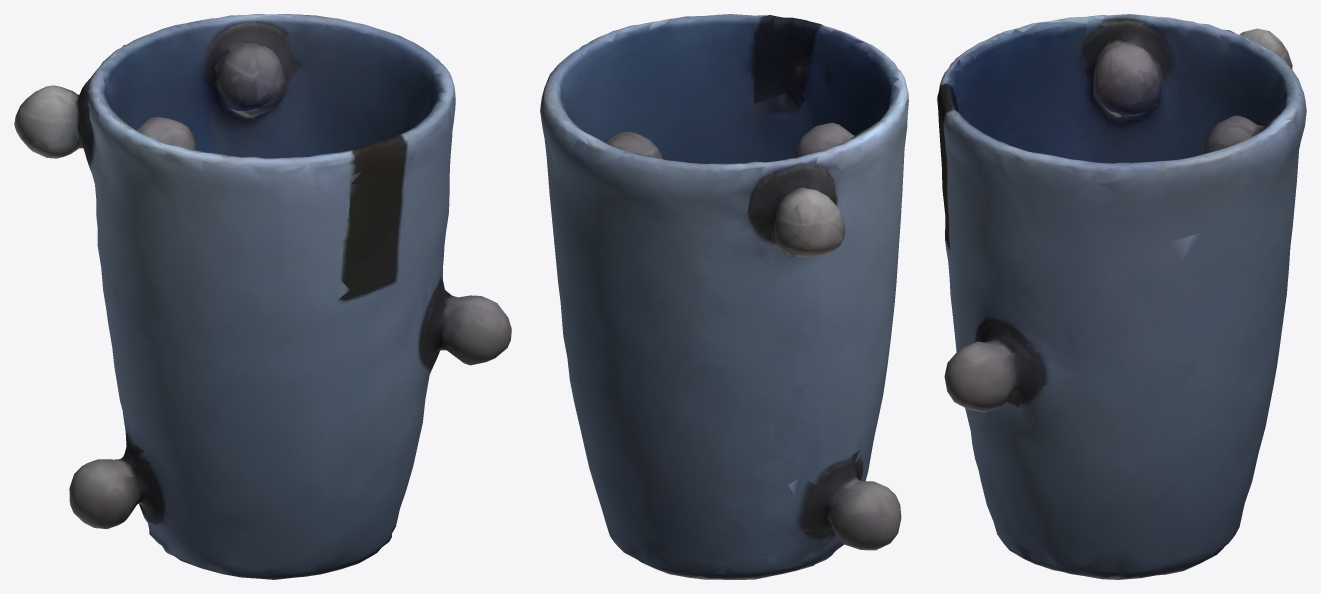
Rendered from CupBlue.obj.
3 views of the same model, side by side, from view 1: azimuth 30°, elevation 25°; view 2: azimuth 150°, elevation 25°; view 3: azimuth 270°, elevation 25° (orthographic).
Size of the model in its own units: 0.0822 by 0.1026 by 0.0758.
Materials: 1 (1 with a texture image).
